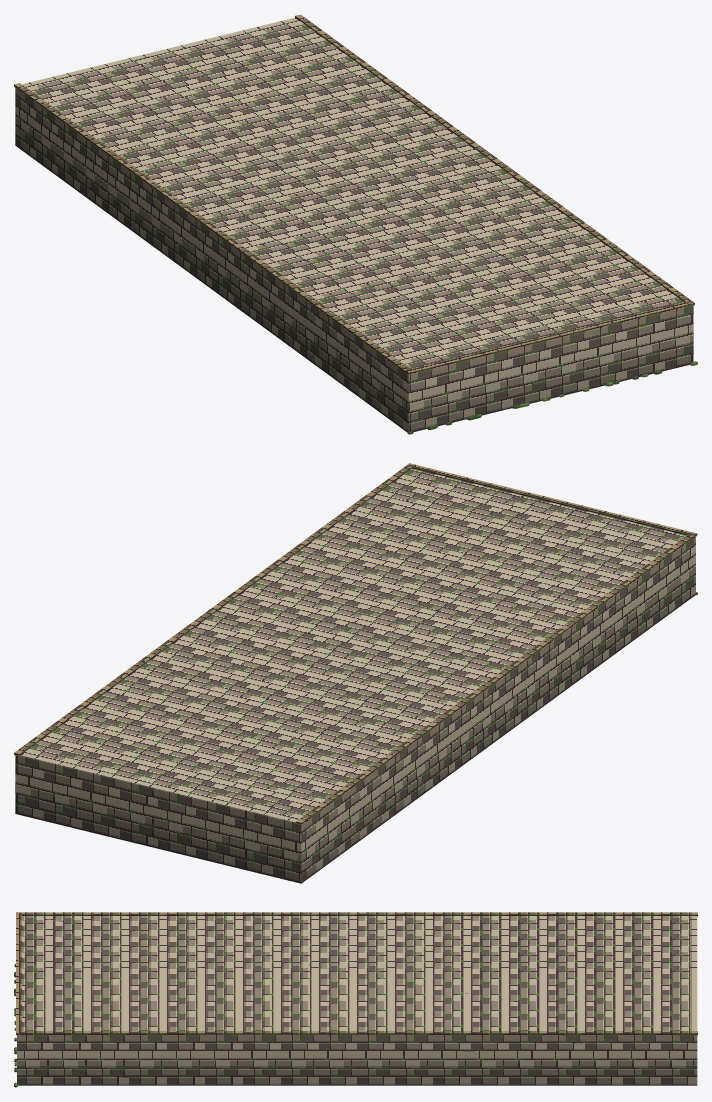
Rendered from scene_wall_w.glb.
3 views of the same model, one above another, from view 1: azimuth 30°, elevation 25°; view 2: azimuth 150°, elevation 25°; view 3: azimuth 270°, elevation 25° (orthographic). The views are drawn at different scales.
Visible parts, largest first — view 1: scene_wall_w; view 2: scene_wall_w; view 3: scene_wall_w.
Boxes of the visible parts, <box> form: scene_wall_w: <box>14,14,697,434</box>; scene_wall_w: <box>14,463,697,883</box>; scene_wall_w: <box>14,912,697,1087</box>.
Size of the model in its own units: 18.32 by 3.77 by 43.24.
Materials: 2 (1 with a texture image).
